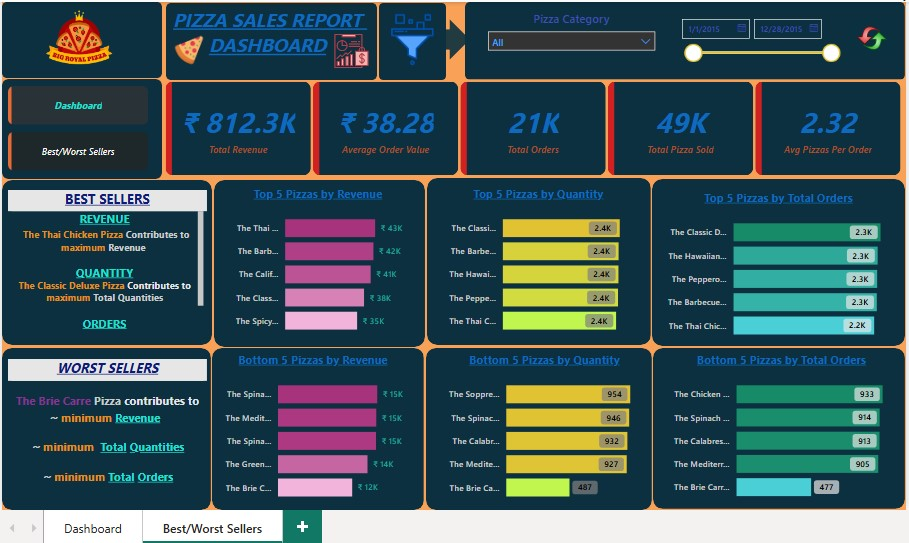

The page's visual inventory and layout, read from the dashboard file:
{"tool":"powerbi","page":{"name":"Best/Worst Sellers","canvas":[1280,720],"ordinal":1},"visuals":[{"type":"shape","box":[0,0,226.8,107.7],"z":0},{"type":"image","box":[8.5,0,199.8,110.6],"z":1000},{"type":"shape","box":[232.4,1.4,299.1,109.1],"z":2000},{"type":"shape","box":[0,109.1,226.8,141.7],"z":3000},{"type":"shape","box":[0,252.3,297.6,233.9],"z":4000},{"type":"shape","box":[0,490.4,296.2,229.6],"z":5000},{"type":"shape","box":[656.5,0,623.5,110.4],"z":6000},{"type":"cardVisual","fields":{"Data":["Measure Table.Total Revenue","Measure Table.Average Order Value","Measure Table.Total Orders","Measure Table.Total Pizza Sold","Measure Table.Avg Pizzas Per Order"]},"box":[226.8,107.7,1053.1,143.1],"z":7000},{"type":"shape","box":[921.3,250.9,358.6,236.7],"z":8000},{"type":"shape","box":[300.5,252.3,299.1,236.7],"z":9000},{"type":"shape","box":[600.9,490.4,320.3,229.6],"z":10000},{"type":"shape","box":[922.7,490.4,357.2,228.2],"z":11000},{"type":"textbox","title":"WORST SELLERS","box":[8.5,506,282,202.7],"z":12000},{"type":"shape","box":[297.6,490.4,300.5,229.6],"z":13000},{"type":"textbox","title":"BEST SELLERS","box":[8.5,266.5,282,206.9],"z":14000},{"type":"shape","box":[569.8,24.1,93.5,58.1],"z":15000},{"type":"shape","box":[534.3,1.4,95,109.1],"z":16000},{"type":"textbox","box":[226.8,1.4,299.1,113.4],"z":17000},{"type":"slicer","title":"Pizza Category","fields":{"Values":["pizza_sales.pizza_category"]},"box":[678.9,12.8,256.5,78],"z":18000},{"type":"slicer","title":"Pizza Category","fields":{"Values":["pizza_sales.order_date"]},"box":[951,14.2,246.6,82.2],"z":19000},{"type":"image","box":[538.6,11.3,85,83.6],"z":20000},{"type":"image","box":[239.5,39.7,51,56.7],"z":21000},{"type":"barChart","title":"Bottom 5 Pizzas by Revenue","fields":{"Y":["measure.Total Revenue"],"Category":["pizza_sales.pizza_name"]},"box":[299.1,496.1,283.5,223.9],"z":22000},{"type":"barChart","title":"Bottom 5 Pizzas by Quantity","fields":{"Category":["pizza_sales.pizza_name"],"Y":["measure.Total Pizza Sold"]},"box":[616.5,496.1,304.7,223.9],"z":23000},{"type":"barChart","title":"Bottom 5 Pizzas by Total Orders","fields":{"Y":["measure.Total Orders"],"Category":["pizza_sales.pizza_name"]},"box":[930,496.7,350,223.3],"z":24000},{"type":"shape","box":[602.4,249.4,317.5,236.7],"z":25000},{"type":"barChart","title":"Top 5 Pizzas by Revenue","fields":{"Y":["measure.Total Revenue"],"Category":["pizza_sales.pizza_name"]},"box":[313.2,260.8,269.3,222.5],"z":26000},{"type":"barChart","title":"Top 5 Pizzas by Quantity","fields":{"Category":["pizza_sales.pizza_name"],"Y":["measure.Total Pizza Sold"]},"box":[616.5,260.8,287.7,222.5],"z":27000},{"type":"barChart","title":"Top 5 Pizzas by Total Orders","fields":{"Y":["measure.Total Orders"],"Category":["pizza_sales.pizza_name"]},"box":[925.5,266.5,350.1,223.9],"z":28000},{"type":"pageNavigator","box":[8.5,119.1,199.8,121.9],"z":29000},{"type":"image","box":[1196.9,22.9,73.1,57.3],"z":30000},{"type":"image","box":[448.6,40.1,91.7,60.2],"z":31000}]}

Visuals, with their boxes on the page's 1280x720 design canvas (x1, y1, x2, y2). These are canvas units, not pixel positions in the 909x543 screenshot, which may show the page scaled, cropped or inside an application window:
shape: {"x1": 0, "y1": 0, "x2": 227, "y2": 108}
image: {"x1": 8, "y1": 0, "x2": 208, "y2": 111}
shape: {"x1": 232, "y1": 1, "x2": 532, "y2": 110}
shape: {"x1": 0, "y1": 109, "x2": 227, "y2": 251}
shape: {"x1": 0, "y1": 252, "x2": 298, "y2": 486}
shape: {"x1": 0, "y1": 490, "x2": 296, "y2": 720}
shape: {"x1": 656, "y1": 0, "x2": 1280, "y2": 110}
cardVisual - Measure Table.Total Revenue x Measure Table.Average Order Value: {"x1": 227, "y1": 108, "x2": 1280, "y2": 251}
shape: {"x1": 921, "y1": 251, "x2": 1280, "y2": 488}
shape: {"x1": 300, "y1": 252, "x2": 600, "y2": 489}
shape: {"x1": 601, "y1": 490, "x2": 921, "y2": 720}
shape: {"x1": 923, "y1": 490, "x2": 1280, "y2": 719}
"WORST SELLERS" textbox: {"x1": 8, "y1": 506, "x2": 290, "y2": 709}
shape: {"x1": 298, "y1": 490, "x2": 598, "y2": 720}
"BEST SELLERS" textbox: {"x1": 8, "y1": 266, "x2": 290, "y2": 473}
shape: {"x1": 570, "y1": 24, "x2": 663, "y2": 82}
shape: {"x1": 534, "y1": 1, "x2": 629, "y2": 110}
textbox: {"x1": 227, "y1": 1, "x2": 526, "y2": 115}
"Pizza Category" slicer: {"x1": 679, "y1": 13, "x2": 935, "y2": 91}
"Pizza Category" slicer: {"x1": 951, "y1": 14, "x2": 1198, "y2": 96}
image: {"x1": 539, "y1": 11, "x2": 624, "y2": 95}
image: {"x1": 240, "y1": 40, "x2": 290, "y2": 96}
"Bottom 5 Pizzas by Revenue" barChart: {"x1": 299, "y1": 496, "x2": 583, "y2": 720}
"Bottom 5 Pizzas by Quantity" barChart: {"x1": 616, "y1": 496, "x2": 921, "y2": 720}
"Bottom 5 Pizzas by Total Orders" barChart: {"x1": 930, "y1": 497, "x2": 1280, "y2": 720}
shape: {"x1": 602, "y1": 249, "x2": 920, "y2": 486}
"Top 5 Pizzas by Revenue" barChart: {"x1": 313, "y1": 261, "x2": 582, "y2": 483}
"Top 5 Pizzas by Quantity" barChart: {"x1": 616, "y1": 261, "x2": 904, "y2": 483}
"Top 5 Pizzas by Total Orders" barChart: {"x1": 926, "y1": 266, "x2": 1276, "y2": 490}
pageNavigator: {"x1": 8, "y1": 119, "x2": 208, "y2": 241}
image: {"x1": 1197, "y1": 23, "x2": 1270, "y2": 80}
image: {"x1": 449, "y1": 40, "x2": 540, "y2": 100}
